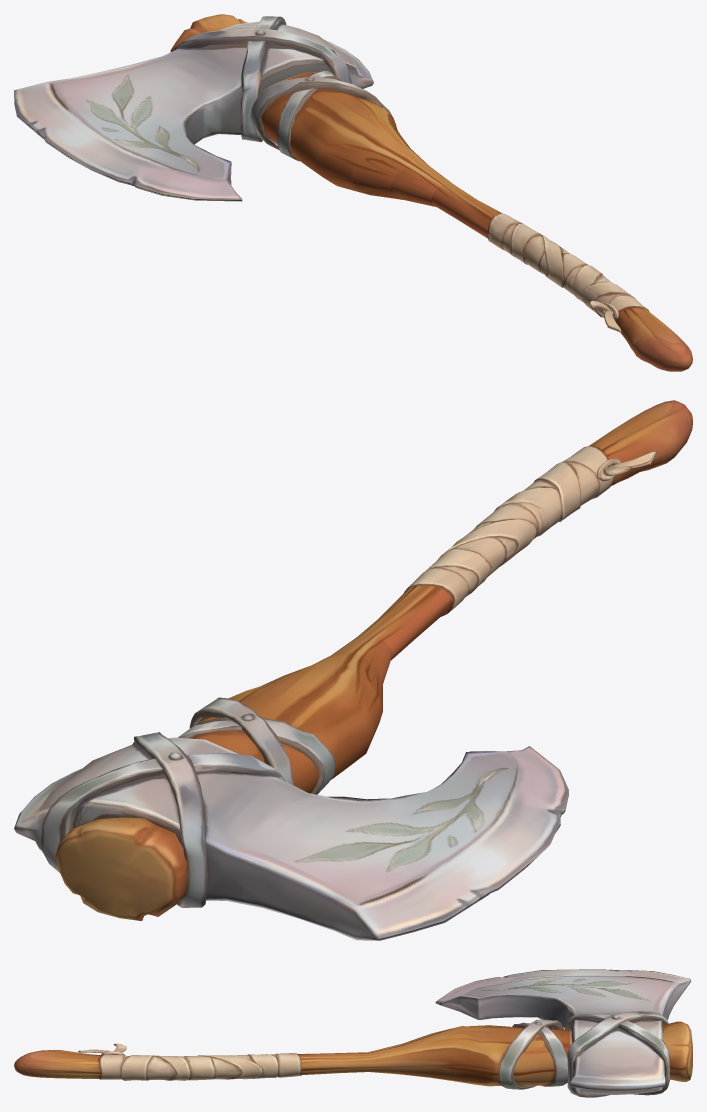
File: Tool_Axe_Stone.fbx
The picture shows the model from 3 angles, top to bottom: view 1: azimuth 30°, elevation 25°; view 2: azimuth 150°, elevation 25°; view 3: azimuth 270°, elevation 25°; orthographic projection. The views are drawn at different scales.
Visible parts, largest first — view 1: Tool_Axe_Stone; view 2: Tool_Axe_Stone; view 3: Tool_Axe_Stone.
Boxes of the visible parts, x1,y1,x2,y2 form: Tool_Axe_Stone: (14, 14, 692, 371); Tool_Axe_Stone: (14, 400, 692, 940); Tool_Axe_Stone: (14, 969, 692, 1097).
Size of the model in its own units: 0.1974 by 0.0589 by 0.48.
